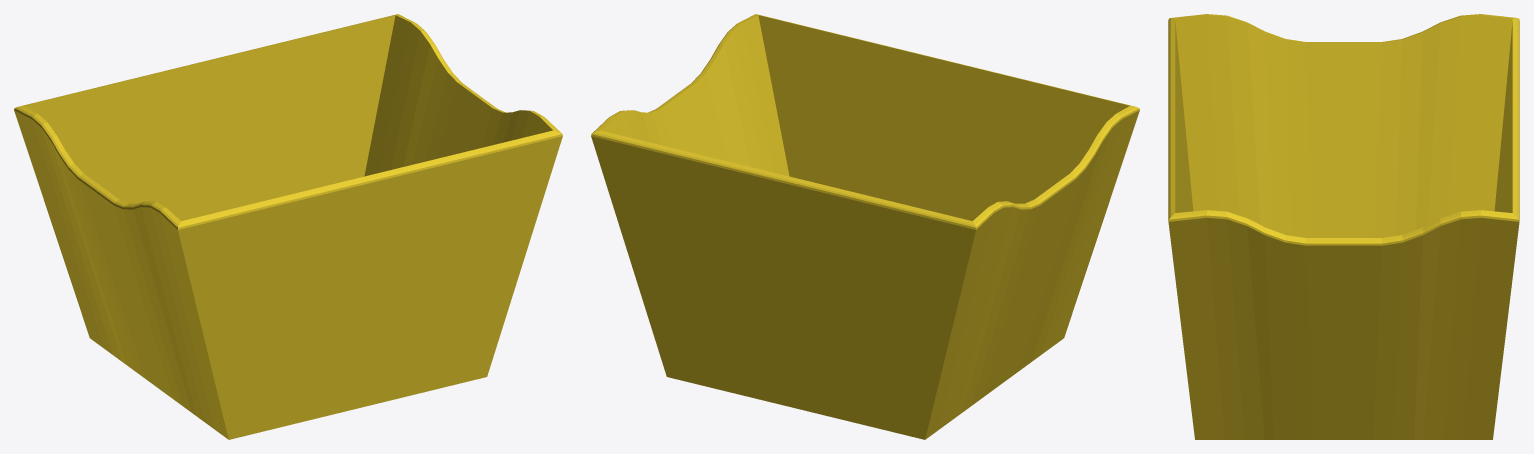
File: potato_empty.fbx
The picture shows the model from 3 angles, left to right: view 1: azimuth 30°, elevation 25°; view 2: azimuth 150°, elevation 25°; view 3: azimuth 270°, elevation 25°; orthographic projection. The views are drawn at different scales.
Parts seen in each view (by area): view 1: Plane; view 2: Plane; view 3: Plane.
Part boxes in pixels (left/top/right/bottom): Plane: left=14, top=14, right=562, bottom=439; Plane: left=591, top=14, right=1139, bottom=439; Plane: left=1168, top=14, right=1519, bottom=439.
Bounding box in the file's own units: 198 × 119 × 146.
